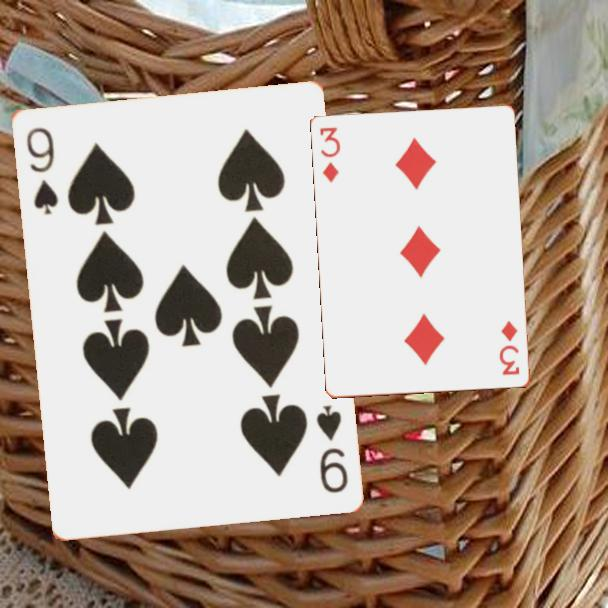d03: (316, 124, 344, 185), (496, 317, 523, 378)
s09: (22, 123, 61, 218), (312, 401, 351, 496)
